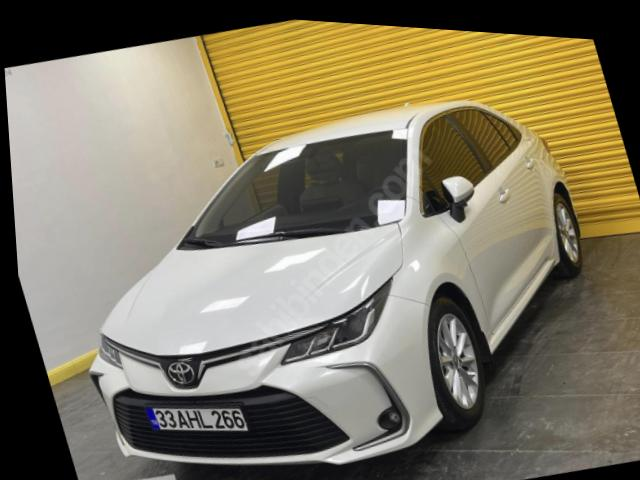plaka: (145, 406, 247, 431)
